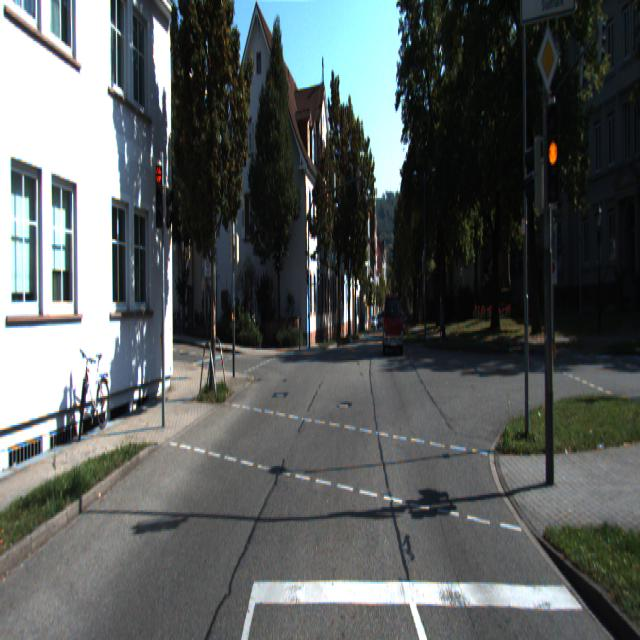Car: (382, 295, 404, 357)
